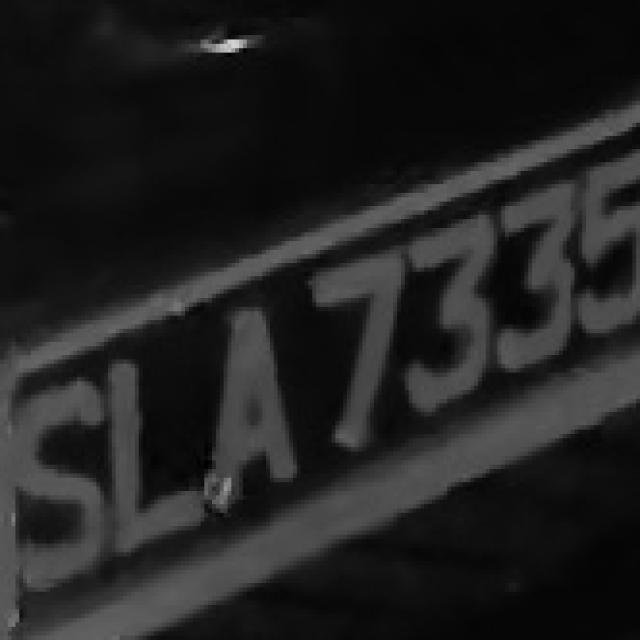3: (393, 193, 505, 421), (490, 167, 578, 377)
5: (559, 127, 636, 351)
7: (301, 223, 408, 456)
A: (196, 281, 308, 508)
L: (100, 316, 204, 566)
S: (15, 351, 100, 609)
